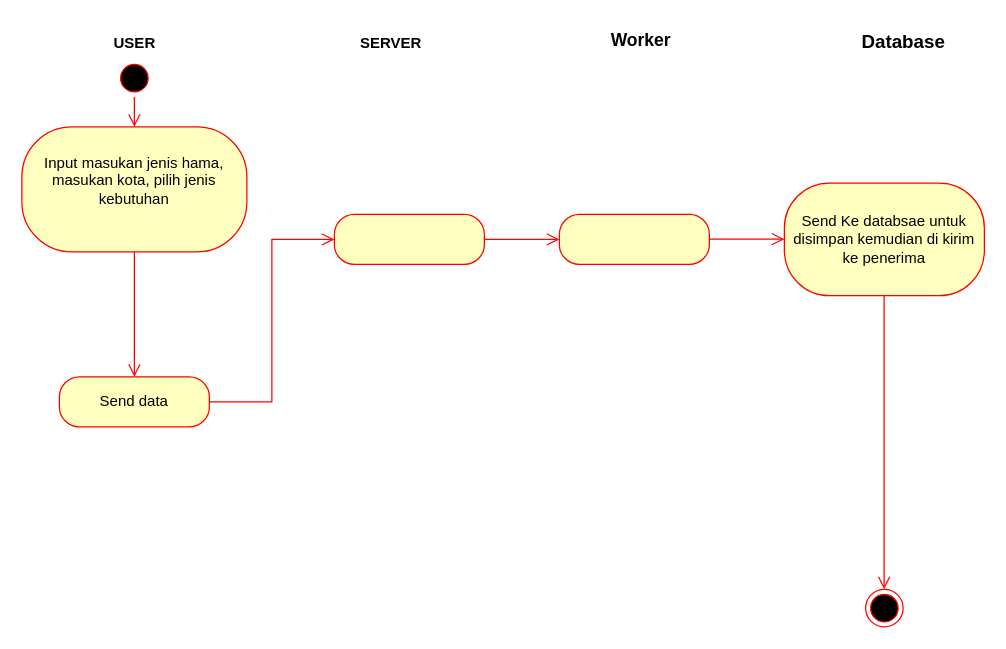
Some shapes in this 1006 by 649 pixel diagram are drawn without their labels. Here are the shapes that lost their labels. From the top down, the centre of each, then its label:
(408,238): Send data ke server
(633,238): Send data ke Worker untuk di siapkan
